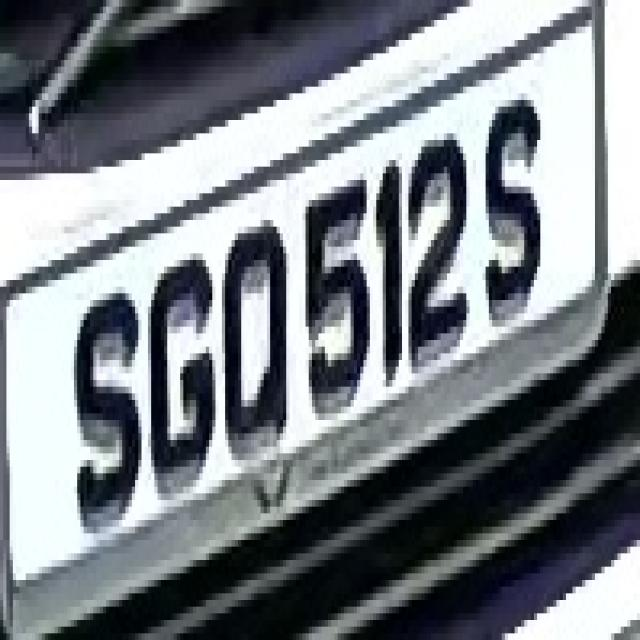1: (370, 127, 412, 393)
2: (408, 114, 479, 374)
5: (296, 160, 370, 433)
G: (148, 246, 219, 506)
Q: (216, 220, 299, 460)
S: (67, 273, 142, 527), (479, 93, 544, 327)
